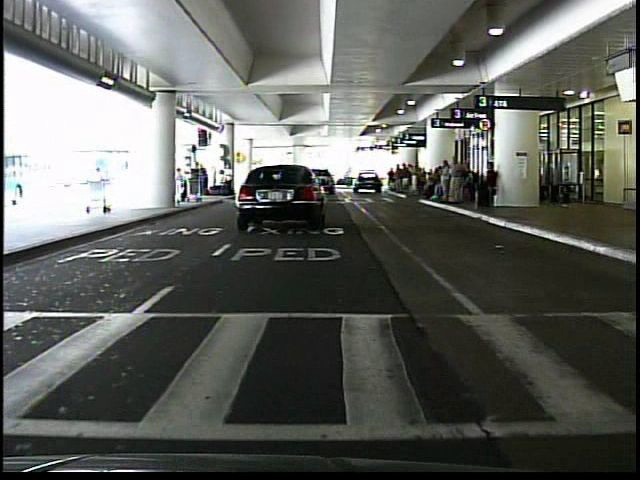person: (446, 152, 468, 209)
